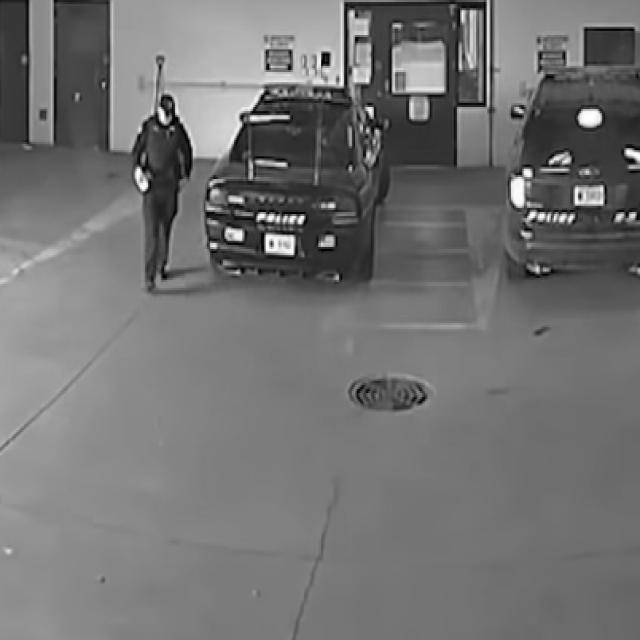Invader: (129, 91, 193, 290)
